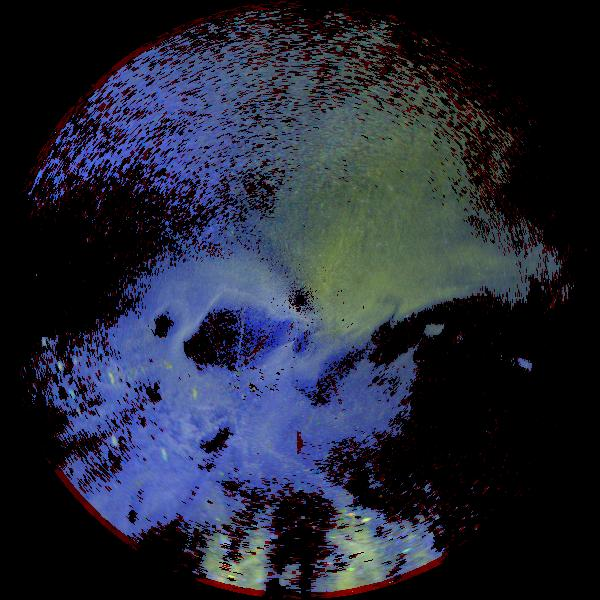roost: (93, 372, 117, 396), (68, 390, 77, 399)
